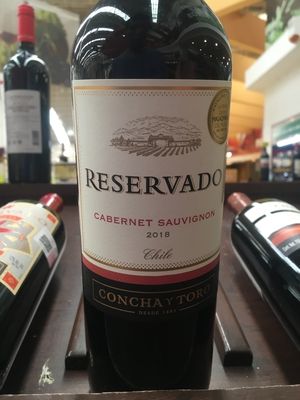reservado cabernet sauvignon: (75, 16, 252, 383)
